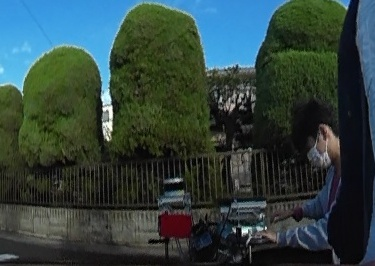person: (248, 97, 339, 266)
